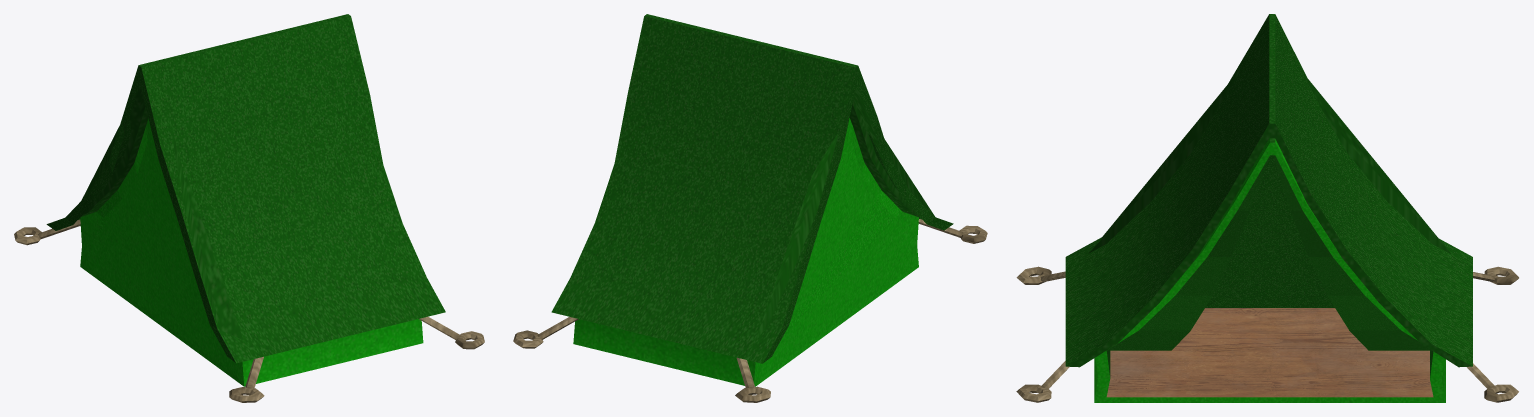
File: new tent export 1.fbx
The picture shows the model from 3 angles, left to right: view 1: azimuth 30°, elevation 25°; view 2: azimuth 150°, elevation 25°; view 3: azimuth 270°, elevation 25°; orthographic projection. The views are drawn at different scales.
Visible parts, largest first — view 1: polySurface45; view 2: polySurface45; view 3: polySurface45.
Part boxes in pixels (x1=…): polySurface45: x1=14, y1=14, x2=484, y2=402; polySurface45: x1=513, y1=14, x2=987, y2=402; polySurface45: x1=1016, y1=14, x2=1518, y2=402.
Bounding box in the file's own units: 181 × 180 × 290.
